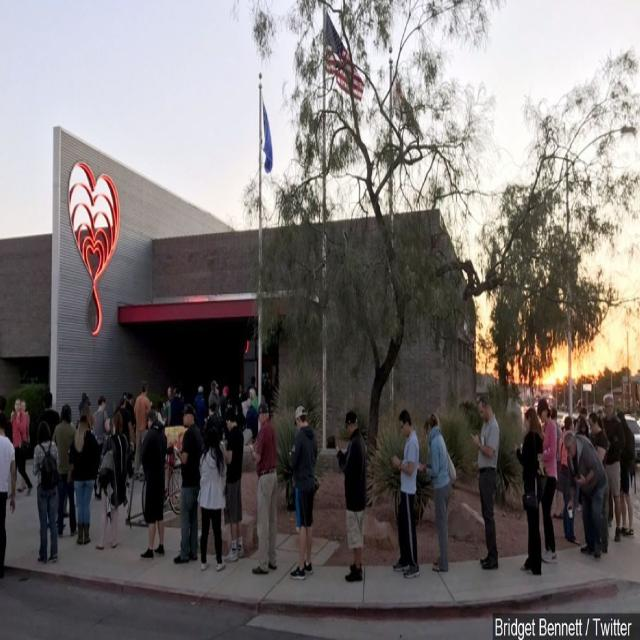body: (510, 403, 549, 579), (415, 411, 452, 574), (468, 391, 501, 572), (562, 430, 607, 562), (334, 410, 368, 584), (248, 400, 280, 579), (389, 408, 420, 580), (289, 404, 319, 581), (94, 407, 129, 554), (196, 423, 227, 573), (138, 407, 168, 562), (172, 402, 200, 568), (30, 420, 61, 567), (66, 412, 100, 546), (218, 406, 247, 563), (534, 394, 560, 565), (600, 392, 624, 544), (52, 403, 78, 538), (558, 414, 582, 547), (587, 409, 611, 540), (615, 408, 638, 540), (0, 412, 16, 582), (10, 397, 34, 497), (132, 379, 152, 484), (158, 380, 192, 428), (550, 407, 564, 521), (234, 371, 277, 407), (16, 399, 30, 495), (37, 389, 61, 442), (92, 394, 112, 457), (567, 404, 604, 434), (191, 382, 206, 443), (203, 402, 224, 443), (125, 390, 137, 461), (114, 397, 130, 445), (244, 396, 258, 441), (0, 393, 11, 441), (75, 400, 92, 431), (148, 403, 166, 430), (218, 384, 229, 416), (208, 379, 220, 408), (79, 391, 92, 416), (120, 385, 128, 398)
